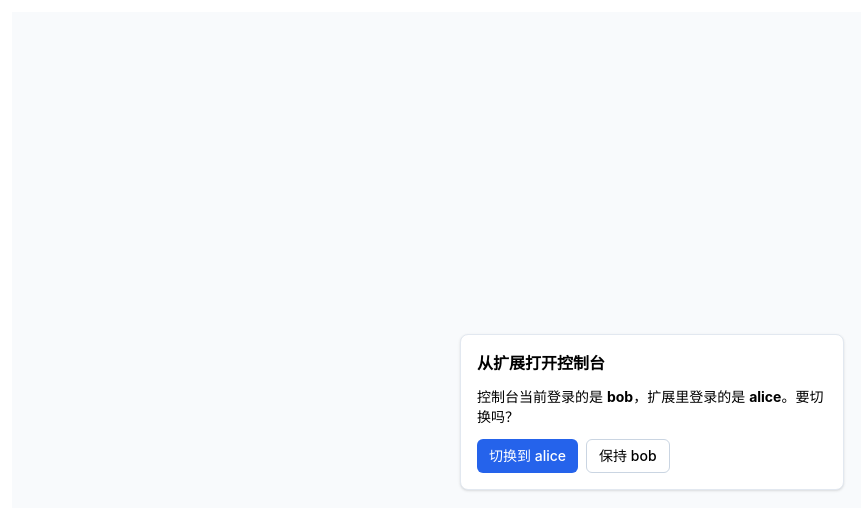
Scenario: 从扩展打开控制台（handoff） › 选切换则换成扩展里的账号
Click the button "切换到 alice": (528, 456) [477,439,578,473]
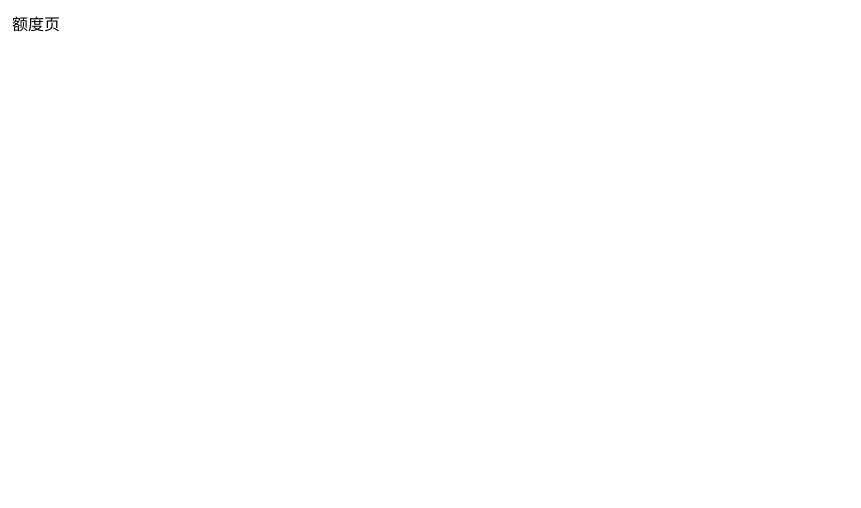
Now the text "额度页" is shown, box [12,14,60,34]
